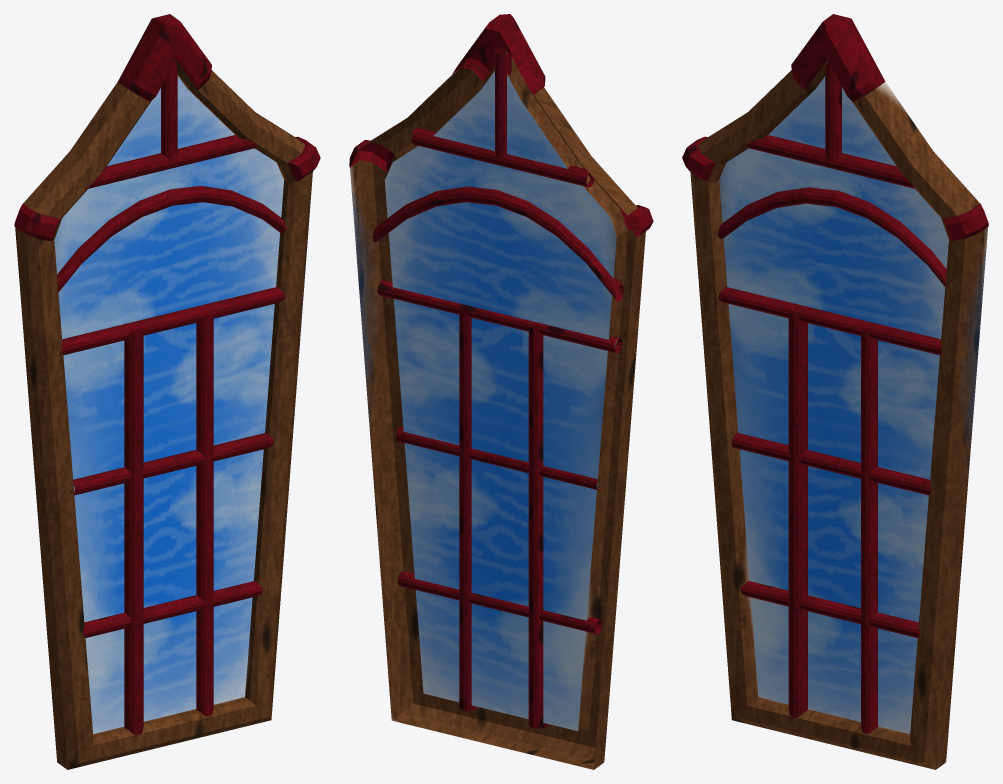
The model's file is Janela grande.fbx.
3 views of the same model, side by side, from view 1: azimuth 30°, elevation 25°; view 2: azimuth 150°, elevation 25°; view 3: azimuth 330°, elevation 25° (orthographic).
Parts seen in each view (by area): view 1: Janela; view 2: Janela; view 3: Janela.
Boxes of the visible parts, x1=… form: Janela: x1=14, y1=14, x2=320, y2=769; Janela: x1=349, y1=14, x2=653, y2=769; Janela: x1=682, y1=14, x2=988, y2=769.
Size of the model in its own units: 429 by 1004 by 46.81.
1 material, 1 textured.
